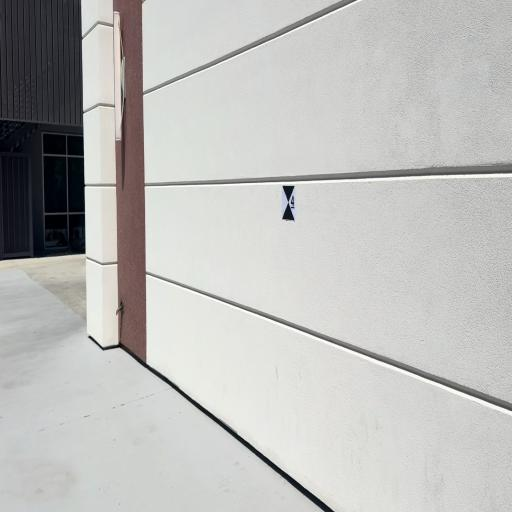target4: (282, 185, 296, 220)
